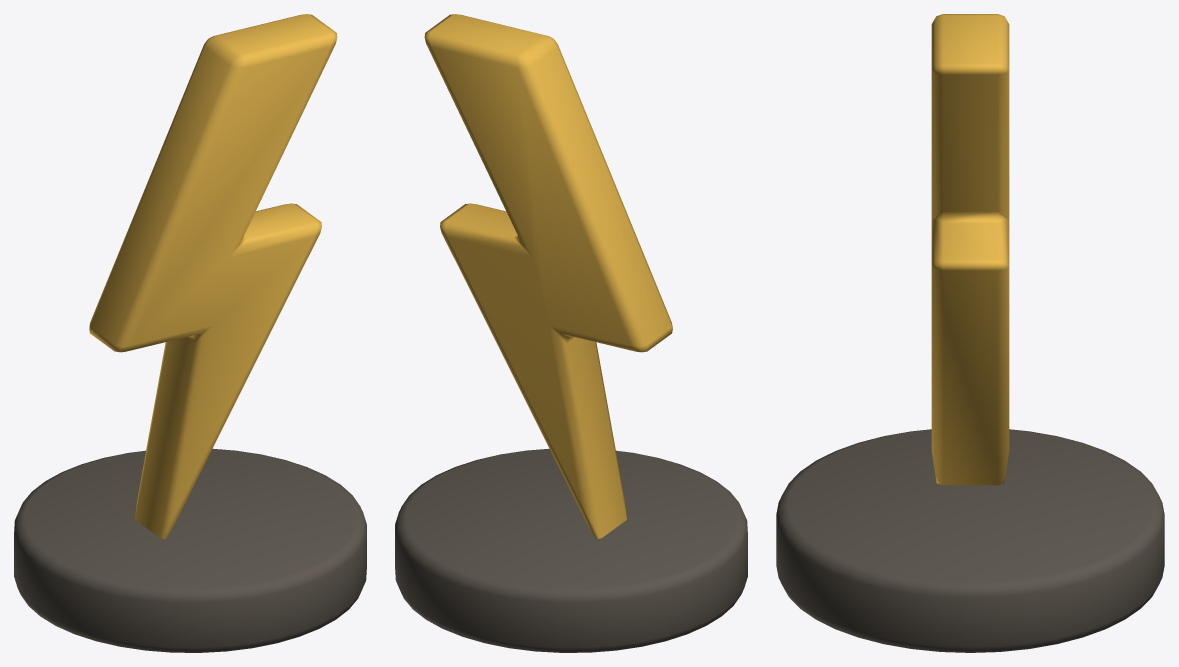
Rendered from utilidade-publica.glb.
3 views of the same model, side by side, from view 1: azimuth 30°, elevation 25°; view 2: azimuth 150°, elevation 25°; view 3: azimuth 270°, elevation 25° (orthographic). The views are drawn at different scales.
Visible parts, largest first — view 1: Raio, Base; view 2: Raio, Base; view 3: Base, Raio.
Part boxes in pixels (x1,y1,x2,y2): Raio: (89,14,337,539); Base: (14,448,366,652); Raio: (424,14,672,539); Base: (395,448,747,652); Base: (776,429,1164,652); Raio: (931,14,1009,485).
Bounding box in the file's own units: 0.6061 × 1 × 0.6061.
